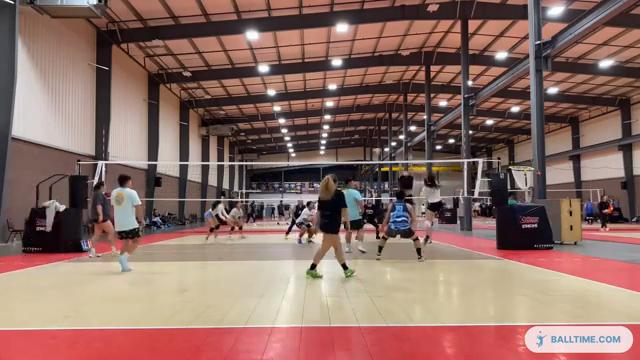Block: (416, 163, 441, 244)
Player: (306, 174, 354, 277), (376, 190, 423, 260), (111, 174, 141, 271), (89, 181, 117, 257), (343, 178, 365, 252), (285, 200, 305, 239), (296, 201, 314, 243), (227, 201, 244, 238), (363, 201, 379, 239), (204, 203, 219, 241)
